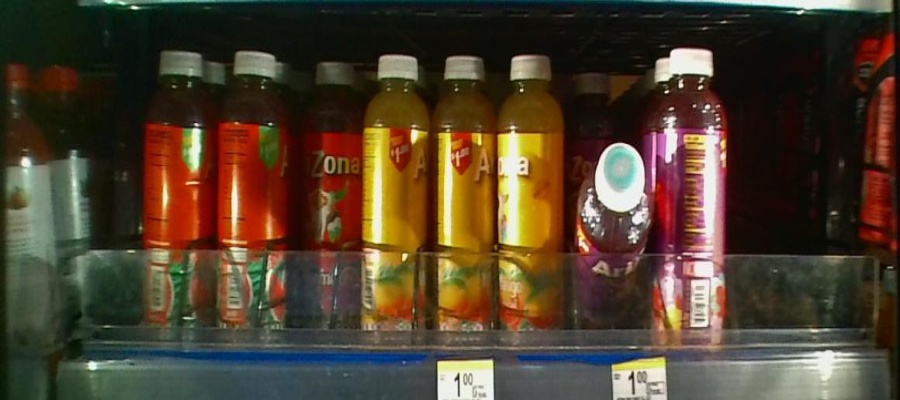bottle: (139, 44, 214, 349), (363, 45, 435, 355), (217, 40, 289, 335), (292, 52, 364, 338), (499, 52, 565, 348), (663, 50, 727, 350), (435, 47, 497, 348), (580, 144, 651, 330)
